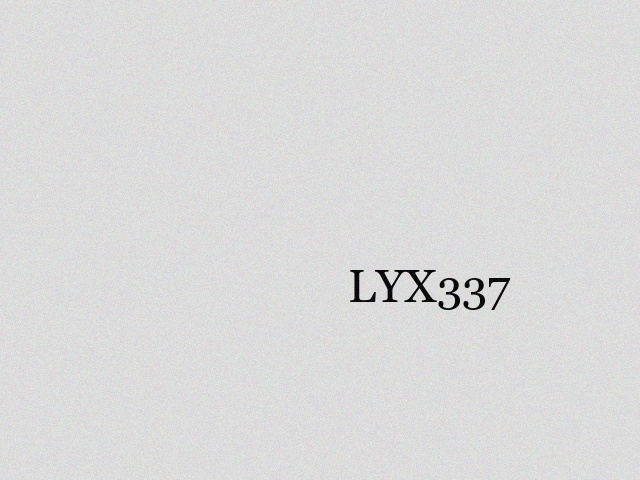OCR_AREA: (344, 266, 515, 314)
